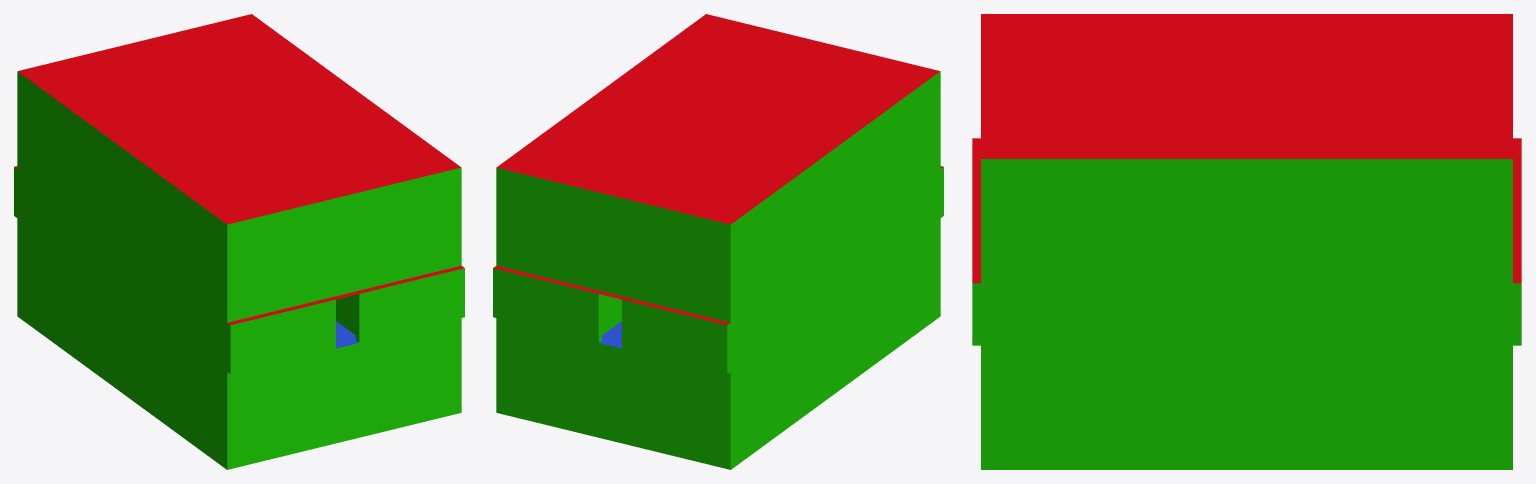
Rendered from 5x8_Room__Deep_and_Tall.fbx.
3 renders of one model, left to right at view 1: azimuth 30°, elevation 25°; view 2: azimuth 150°, elevation 25°; view 3: azimuth 270°, elevation 25°, orthographic. The views are drawn at different scales.
Visible parts, largest first — view 1: 5x8 Room Deep and Tall; view 2: 5x8 Room Deep and Tall; view 3: 5x8 Room Deep and Tall.
Part boxes in pixels (left/top/right/bottom): 5x8 Room Deep and Tall: left=14, top=14, right=464, bottom=469; 5x8 Room Deep and Tall: left=493, top=14, right=943, bottom=469; 5x8 Room Deep and Tall: left=972, top=14, right=1521, bottom=469.
Size of the model in its own units: 4000 by 4000 by 6400.
